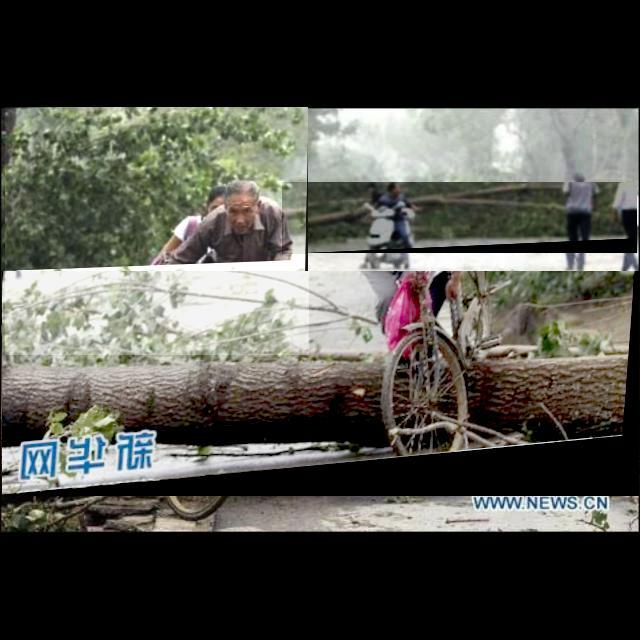fallen_tree: (2, 271, 640, 497), (5, 107, 309, 355), (282, 182, 638, 254)
